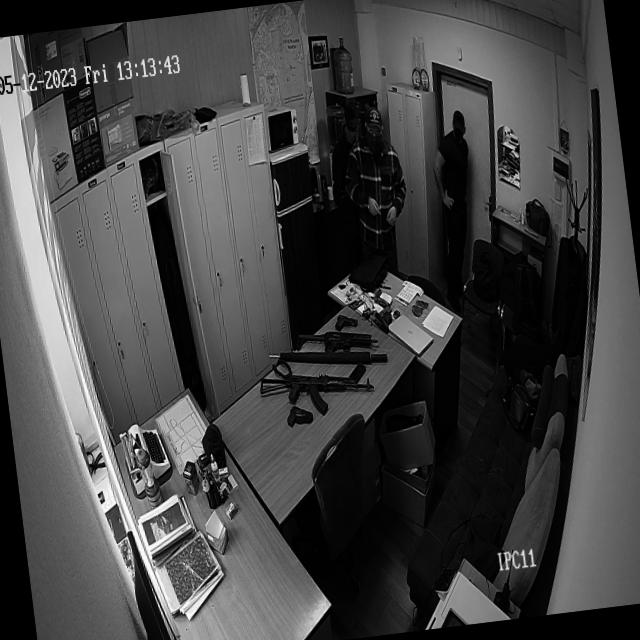gun: (257, 364, 375, 411), (292, 324, 380, 355), (285, 400, 316, 436), (332, 308, 359, 335)
person: (336, 101, 416, 259), (420, 104, 482, 247)
